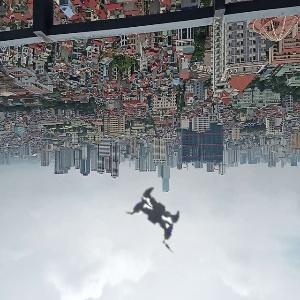drone: (91, 154, 220, 283)
